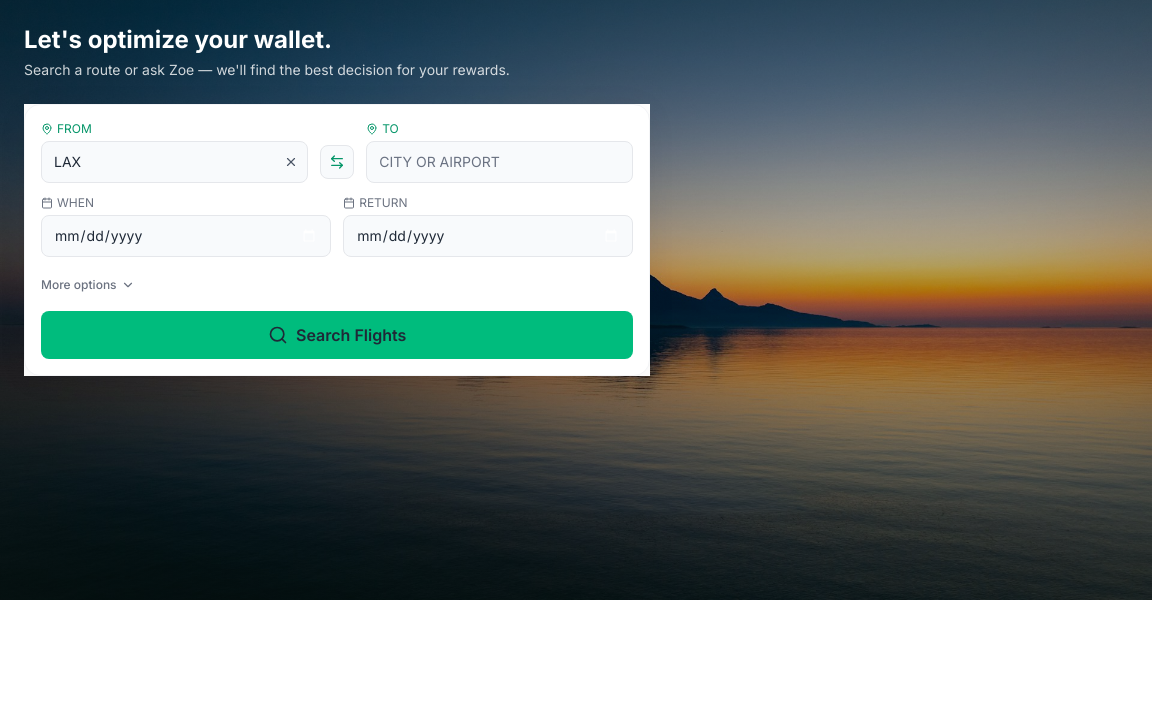
Swap origin/destination button › moves FROM value into TO when only FROM is filled
Check: the 1st field holds "LAX", box [41,141,308,183]
Check: the field with placeholder "City or airport" is empty, box [366,141,633,183]
Step 1. Click the button named "Swap origin and destination" → (337, 162), box [320,145,354,179]
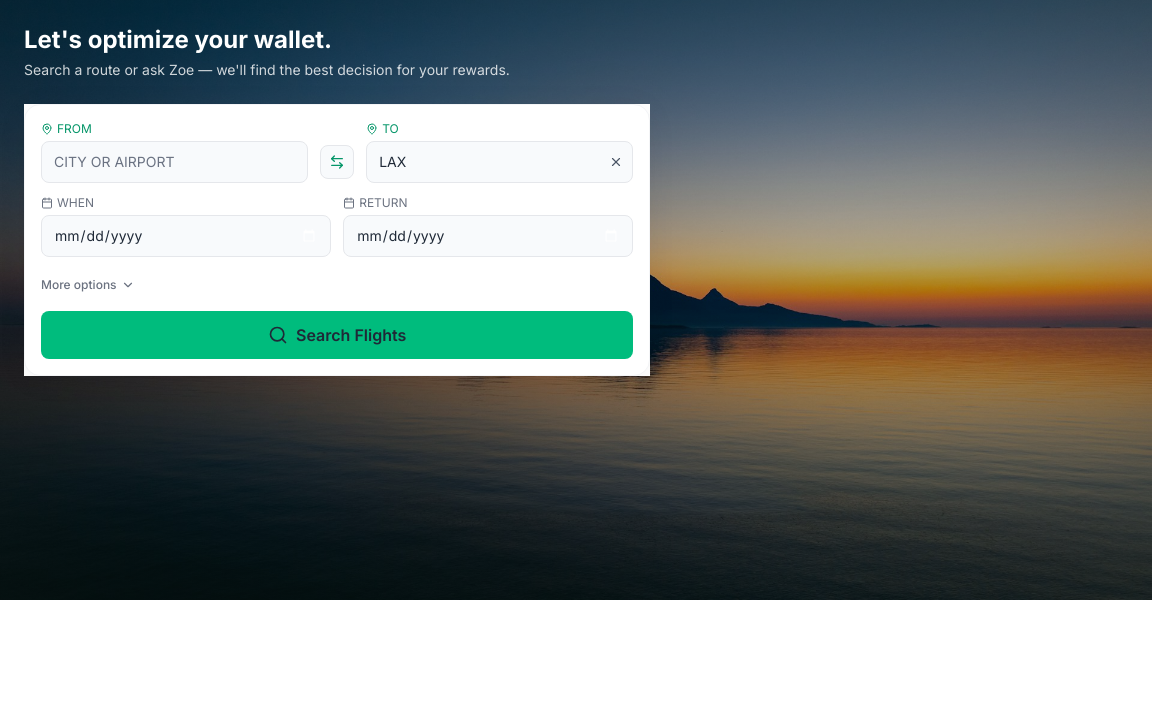
Check: the field with placeholder "City or airport" is empty, box [41,141,308,183]
Check: the 2nd field holds "LAX", box [366,141,633,183]
